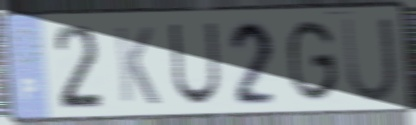2: (226, 15, 284, 112), (53, 22, 107, 112)
G: (286, 16, 340, 105)
K: (112, 23, 162, 108)
U: (338, 14, 400, 105), (167, 20, 223, 108)
